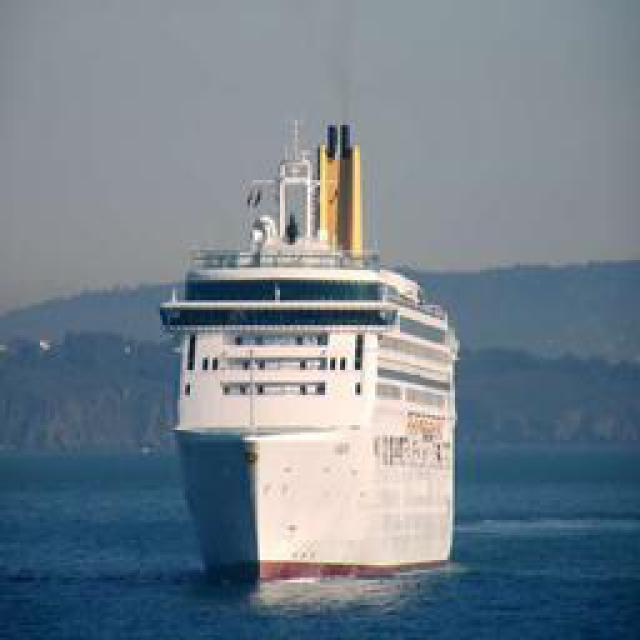Ship: (161, 73, 464, 591)
